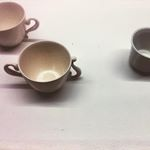cups: (2, 38, 85, 98), (1, 1, 40, 52), (127, 25, 150, 78)
